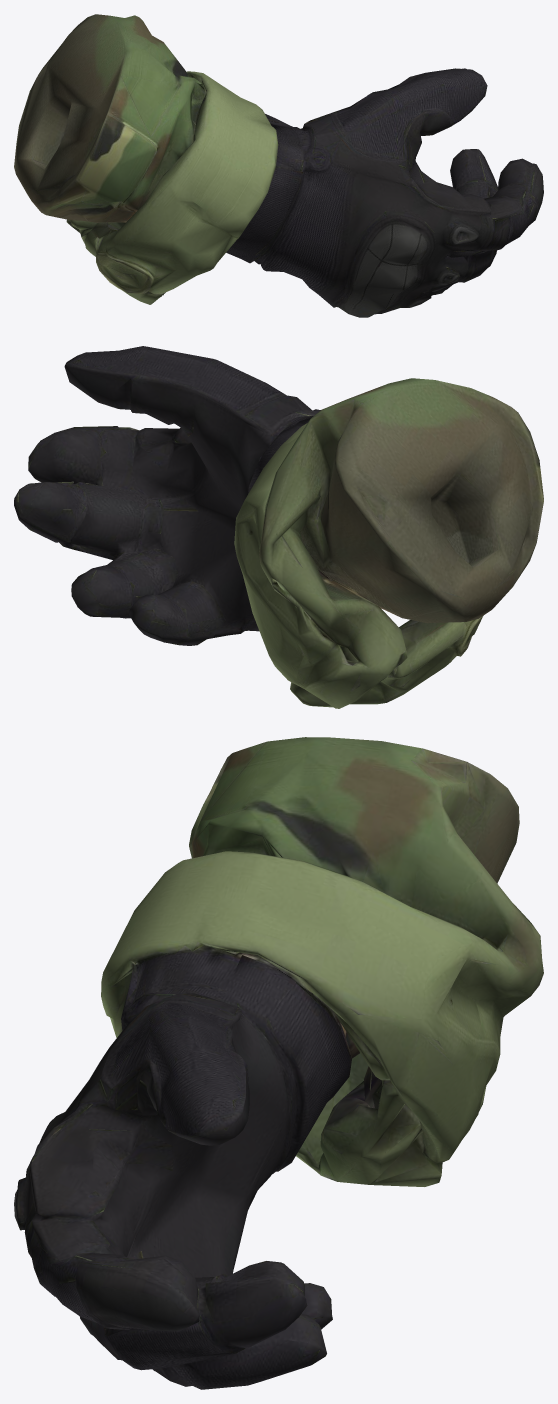
File: hand_left.glb
The picture shows the model from 3 angles, top to bottom: view 1: azimuth 30°, elevation 25°; view 2: azimuth 150°, elevation 25°; view 3: azimuth 270°, elevation 25°; orthographic projection. The views are drawn at different scales.
Parts seen in each view (by area): view 1: Mesh_0; view 2: Mesh_0; view 3: Mesh_0.
Part boxes in pixels (x1,y1,x2,y2): Mesh_0: [14, 14, 543, 317]; Mesh_0: [14, 346, 543, 708]; Mesh_0: [14, 737, 543, 1389].
Bounding box in the file's own units: 1.9 × 1.19 × 1.23.
Materials: 1 (1 with a texture image).
